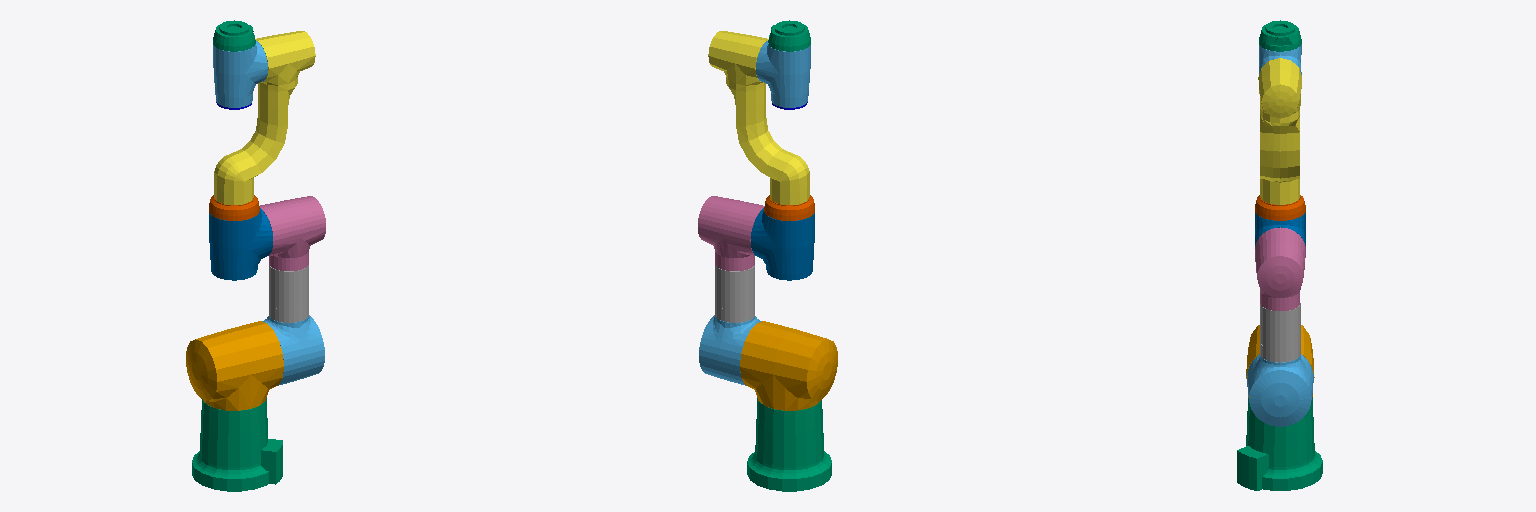
URDF robot description (inovo_robot):
<?xml version="1.0" encoding="utf-8"?>
<robot name="inovo_robot">
	<link name="world"/>
	<joint name="world" type="fixed">
		<parent link="world"/>
		<child link="j1_base"/>
	</joint>
	<link name="j7_wrist_b">
		<visual>
			<origin xyz="0 0 0" rpy="0 1.5707 0"/>
			<geometry>
				<mesh filename="package://inovo_description/meshes/prd/J6.dae"/>
			</geometry>
		</visual>
		<collision name="j7_wrist_b">
			<origin xyz="-0.02 0 0.0" rpy="0 1.57 0"/>
			<geometry>
				<cylinder radius="0.045" length="0.14"/>
			</geometry>
		</collision>
		<inertial>
			<origin xyz="0.01238 0.0 0.00431" rpy="0 0 0"/>
			<mass value="1.933"/>
			<inertia ixx="0.0029" ixy="0.0" ixz="-0.000431" iyy="0.00357" iyz="0.0" izz="0.00235"/>
		</inertial>
	</link>
	<joint name="j7" type="continuous">
		<axis xyz="0 0 1"/>
		<parent link="j7_wrist_b"/>
		<child link="j7_prd1192"/>
		<origin xyz="0 0 0.0" rpy="0 -1.5707963267908 3.141592653590"/>
		<dynamics friction="0.0" damping="0.0"/>
		<limit effort="25.0" velocity="3.3"/>
	</joint>
	<link name="j7_prd1192">
		<visual>
			<origin xyz="0 0 0.0556" rpy="0 1.57 0"/>
			<geometry>
				<mesh filename="package://inovo_description/meshes/prd/J6_1.dae"/>
			</geometry>
		</visual>
		<collision name="j7_prd1192">
			<origin xyz="0 0 0.075" rpy="0 0 0"/>
			<geometry>
				<cylinder radius="0.045" length="0.035"/>
			</geometry>
		</collision>
		<inertial>
			<origin xyz="-0.00145 0.0 0.06063" rpy="0 0 0"/>
			<mass value="0.38"/>
			<inertia ixx="0.000397" ixy="0.0" ixz="0.0" iyy="0.000417" iyz="0.0" izz="0.000244"/>
		</inertial>
	</link>
	<joint name="j7_prd1190_fixed" type="fixed">
		<parent link="j7_prd1192"/>
		<child link="flange"/>
		<origin xyz="0 0 0.0926" rpy="0 0 0"/>
	</joint>
	<link name="j6_jlink">
		<visual>
			<origin xyz="0 0 0.30523" rpy="0 0 0"/>
			<geometry>
				<mesh filename="package://inovo_description/meshes/prd/J5.dae"/>
			</geometry>
		</visual>
		<collision>
			<origin xyz="0 0 0.30523" rpy="0 0 0"/>
			<geometry>
				<mesh filename="package://inovo_description/meshes/prd/J5_collision.stl"/>
			</geometry>
		</collision>
		<inertial>
			<origin xyz="0.07445 0.0 0.21491" rpy="0 0 0"/>
			<mass value="2.187"/>
			<inertia ixx="0.035951" ixy="0.0" ixz="0.0116" iyy="0.0407" iyz="0.0" izz="0.00685"/>
		</inertial>
	</link>
	<joint name="j6" type="continuous">
		<axis xyz="0 0 1"/>
		<parent link="j6_jlink"/>
		<child link="j7_wrist_b"/>
		<origin xyz="0 0 0.30523" rpy="0 -1.5707963267908 0"/>
		<dynamics friction="0.0" damping="0.0"/>
		<limit effort="20.0" velocity="3.3"/>
	</joint>
	<link name="j5_elbow_output">
		<visual>
			<origin xyz="0 0 0.1335" rpy="0 1.57 0"/>
			<geometry>
				<mesh filename="package://inovo_description/meshes/prd/J4.dae"/>
			</geometry>
		</visual>
		<collision name="j5_elbow_output">
			<origin xyz="-0.013 0 0.13" rpy="0 1.57 0"/>
			<geometry>
				<cylinder radius="0.06" length="0.15"/>
			</geometry>
		</collision>
		<inertial>
			<origin xyz="0.0 0.0 0.1109" rpy="0 0 0"/>
			<mass value="2.582"/>
			<inertia ixx="0.00464" ixy="0.0" ixz="-0.00" iyy="0.00631" iyz="0.0" izz="0.00523"/>
		</inertial>
	</link>
	<joint name="j5" type="continuous">
		<axis xyz="0 0 1"/>
		<parent link="j5_elbow_output"/>
		<child link="j5_forearm"/>
		<origin xyz="0 0 0.1335" rpy="0 -1.57079632679 3.141592653590"/>
		<dynamics friction="0.0" damping="0.0"/>
		<limit effort="10.0" velocity="2.6"/>
	</joint>
	<link name="j5_forearm">
		<visual>
			<origin xyz="0 0 0.0647" rpy="0 0 0"/>
			<geometry>
				<mesh filename="package://inovo_description/meshes/prd/J4_1.dae"/>
			</geometry>
		</visual>
		<collision name="j5_forearm">
			<origin xyz="0 0 0.08" rpy="0 0 0"/>
			<geometry>
				<cylinder radius="0.06" length="0.025"/>
			</geometry>
		</collision>
		<inertial>
			<origin xyz="0.0 0.0 0.05836" rpy="0 0 0"/>
			<mass value="0.686"/>
			<inertia ixx="0.000858" ixy="0.0" ixz="0.0" iyy="0.000856" iyz="0.0" izz="0.000725"/>
		</inertial>
	</link>
	<joint name="j5_forearm_coupling" type="fixed">
		<parent link="j5_forearm"/>
		<child link="j6_jlink"/>
		<origin xyz="0 0 0.09477" rpy="0 0 3.141592653590"/>
	</joint>
	<link name="j4_elbow">
		<visual>
			<origin xyz="0 0 0.09025" rpy="3.14 3.14 3.14"/>
			<geometry>
				<mesh filename="package://inovo_description/meshes/prd/J3.dae"/>
			</geometry>
		</visual>
		<collision name="j4_elbow">
			<origin xyz="0 0 0.09" rpy="0 1.57 0"/>
			<geometry>
				<cylinder radius="0.06" length="0.14"/>
			</geometry>
		</collision>
		<inertial>
			<origin xyz="-0.01456 0.0 0.0112" rpy="0 0 0"/>
			<mass value="2.58"/>
			<inertia ixx="0.00555" ixy="0.0" ixz="-0.00039" iyy="0.0066" iyz="0.0" izz="0.00459"/>
		</inertial>
	</link>
	<joint name="j4" type="continuous">
		<axis xyz="0 0 1"/>
		<parent link="j4_elbow"/>
		<child link="j5_elbow_output"/>
		<origin xyz="0 0 0.09025" rpy="0 -1.57079632679 0"/>
		<dynamics friction="0.0" damping="0.0"/>
		<limit effort="10.0" velocity="2.5"/>
	</joint>
	<link name="j3_prdlink1">
		<visual>
			<geometry>
				<mesh filename="package://inovo_description/meshes/prd/TUBE_120.dae"/>
			</geometry>
		</visual>
		<collision>
			<origin xyz="0 0 0.05" rpy="0 0 0"/>
			<geometry>
				<cylinder radius="0.06" length="0.14"/>
			</geometry>
		</collision>
		<inertial>
			<origin xyz="0.0 0.0 0.04948" rpy="0 0 0"/>
			<mass value="0.834"/>
			<inertia ixx="0.0021" ixy="0.0" ixz="0.0" iyy="0.00204" iyz="0.0" izz="0.00095"/>
		</inertial>
	</link>
	<joint name="j3_prdlink1_coupling" type="fixed">
		<parent link="j3_prdlink1"/>
		<child link="j4_elbow"/>
		<origin xyz="0 0 0.1196" rpy="0 0 0"/>
	</joint>
	<link name="j2_shoulder">
		<visual>
			<origin xyz="0 0 0" rpy="0 0 0"/>
			<geometry>
				<mesh filename="package://inovo_description/meshes/prd/J2.dae"/>
			</geometry>
		</visual>
		<collision name="j2_shoulder">
			<origin xyz="-0.005 0 0" rpy="0 1.57079632679 0"/>
			<geometry>
				<cylinder radius="0.08" length="0.17"/>
			</geometry>
		</collision>
		<inertial>
			<origin xyz="0.01745 0.0 -0.03032" rpy="0 0 0"/>
			<mass value="5.24"/>
			<inertia ixx="0.01699" ixy="0.0" ixz="-0.0005" iyy="0.01758" iyz="0.0" izz="0.01251"/>
		</inertial>
	</link>
	<joint name="j2" type="continuous">
		<axis xyz="0 0 1"/>
		<parent link="j2_shoulder"/>
		<child link="j2_shoulder_output"/>
		<origin xyz="0.1335 0 0" rpy="0 4.7123889804 3.14159265359"/>
		<dynamics friction="0.0" damping="0.0"/>
		<limit effort="4.0" velocity="1.8"/>
	</joint>
	<link name="j2_shoulder_output">
		<visual>
			<origin xyz="0 0 0" rpy="0 4.71238 3.1415"/>
			<geometry>
				<mesh filename="package://inovo_description/meshes/prd/J2_1.dae"/>
			</geometry>
		</visual>
		<collision name="j2_shoulder_output">
			<origin xyz="0 0 0.002" rpy="0 0 0"/>
			<geometry>
				<cylinder radius="0.08" length="0.11"/>
			</geometry>
		</collision>
		<inertial>
			<origin xyz="0.00803 0.0 -0.0271" rpy="0 0 0"/>
			<mass value="2.243"/>
			<inertia ixx="0.00579" iyy="0.00653" izz="0.00604" ixy="0.0" ixz="0.000577" iyz="0.0"/>
		</inertial>
	</link>
	<joint name="j2_shoulder_output_joint" type="fixed">
		<parent link="j2_shoulder_output"/>
		<child link="j3_prdlink1"/>
		<origin xyz="0.07975 0.0 0.0" rpy="3.14159265359 -1.57079632679 0"/>
	</joint>
	<link name="j1_base">
		<visual>
			<origin xyz="0 0 0" rpy="0 0 0"/>
			<geometry>
				<mesh filename="package://inovo_description/meshes/prd/J1.dae"/>
			</geometry>
		</visual>
		<collision name="j1_base">
			<origin xyz="0 0 0.09" rpy="0 0 0"/>
			<geometry>
				<cylinder radius="0.08" length="0.18"/>
			</geometry>
		</collision>
		<inertial>
			<origin xyz="0.0 0.0 0.0873" rpy="0 0 0"/>
			<mass value="4.696"/>
			<inertia ixx="0.0162" iyy="0.0162" izz="0.0138" ixy="-0.00037" ixz="-0.000216" iyz="0.00031"/>
		</inertial>
	</link>
	<joint name="j1" type="continuous">
		<axis xyz="0 0 1"/>
		<parent link="j1_base"/>
		<child link="j2_shoulder"/>
		<origin xyz="0 0 0.26022" rpy="0 0 0"/>
		<dynamics friction="0.0" damping="0.0"/>
		<limit effort="3.0" velocity="1.8"/>
	</joint>
	<link name="flange"/>
</robot>

--- What the picture shows (computed from the rendered views, not written in the file) ---
3 views of the same robot in one strip: view 1: azimuth 30°, elevation 25°; view 2: azimuth 150°, elevation 25°; view 3: azimuth 270°, elevation 25° (orthographic).
Model inovo_robot with 12 links and 11 joints (6 continuous, 5 fixed), rooted at world, posed all joints at 0.
Links seen in each view (by area): view 1: j6_jlink, j2_shoulder, j1_base, j5_elbow_output, j4_elbow, j7_wrist_b, j2_shoulder_output, j3_prdlink1, j7_prd1192, j5_forearm; view 2: j6_jlink, j2_shoulder, j1_base, j5_elbow_output, j4_elbow, j7_wrist_b, j2_shoulder_output, j3_prdlink1, j7_prd1192, j5_forearm; view 3: j6_jlink, j1_base, j2_shoulder_output, j4_elbow, j3_prdlink1, j7_prd1192, j5_forearm, j2_shoulder, j5_elbow_output, j7_wrist_b.
Boxes of the visible links, left/top/right/bottom form: j6_jlink: left=214, top=31, right=315, bottom=204; j2_shoulder: left=186, top=321, right=283, bottom=410; j1_base: left=192, top=398, right=282, bottom=491; j5_elbow_output: left=209, top=208, right=272, bottom=280; j4_elbow: left=260, top=196, right=325, bottom=270; j7_wrist_b: left=213, top=41, right=267, bottom=109; j2_shoulder_output: left=262, top=315, right=324, bottom=385; j3_prdlink1: left=269, top=265, right=308, bottom=322; j7_prd1192: left=213, top=20, right=255, bottom=51; j5_forearm: left=209, top=195, right=259, bottom=220; j6_jlink: left=708, top=31, right=809, bottom=204; j2_shoulder: left=740, top=321, right=837, bottom=410; j1_base: left=747, top=398, right=831, bottom=491; j5_elbow_output: left=751, top=208, right=814, bottom=280; j4_elbow: left=698, top=196, right=764, bottom=270; j7_wrist_b: left=756, top=41, right=810, bottom=109; j2_shoulder_output: left=699, top=315, right=761, bottom=385; j3_prdlink1: left=715, top=265, right=754, bottom=322; j7_prd1192: left=768, top=20, right=810, bottom=51; j5_forearm: left=764, top=195, right=814, bottom=220; j6_jlink: left=1258, top=58, right=1301, bottom=204; j1_base: left=1237, top=397, right=1322, bottom=490; j2_shoulder_output: left=1247, top=354, right=1313, bottom=426; j4_elbow: left=1255, top=227, right=1305, bottom=310; j3_prdlink1: left=1260, top=303, right=1300, bottom=362; j7_prd1192: left=1259, top=20, right=1301, bottom=51; j5_forearm: left=1255, top=195, right=1305, bottom=220; j2_shoulder: left=1246, top=325, right=1314, bottom=397; j5_elbow_output: left=1255, top=212, right=1305, bottom=245; j7_wrist_b: left=1259, top=44, right=1301, bottom=74.
Size in the robot's own frame: 0.2961 by 0.1815 by 1.04 metres.
10 mesh visuals loaded from 10 distinct referenced files (10 Collada DAE).